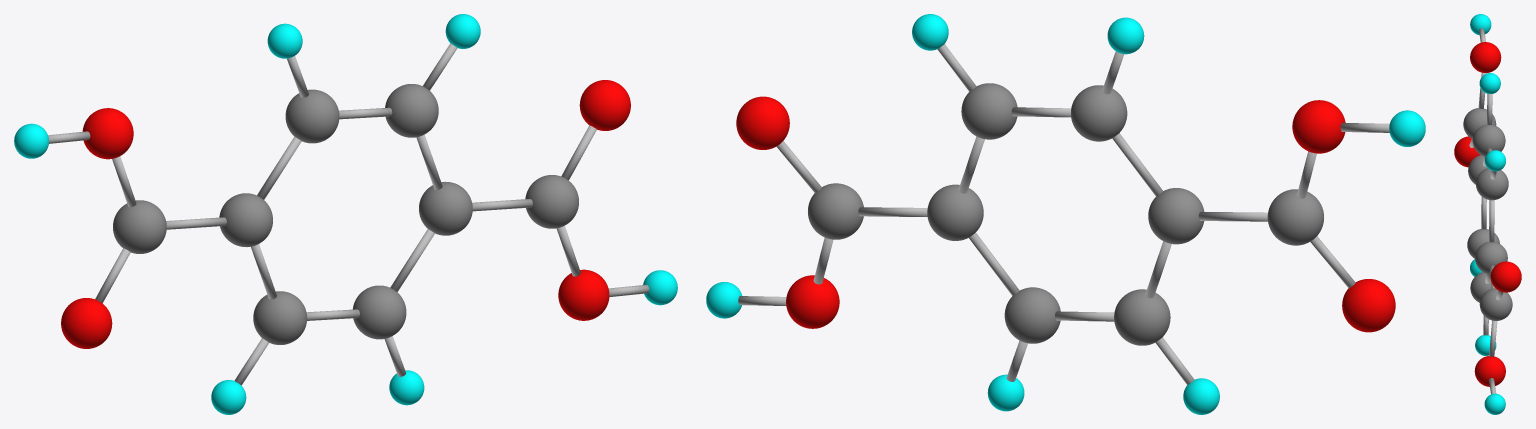
Rendered from terephthalic acid.glb.
3 views of the same model, side by side, from view 1: azimuth 30°, elevation 25°; view 2: azimuth 150°, elevation 25°; view 3: azimuth 270°, elevation 25° (orthographic). The views are drawn at different scales.
Visible parts, largest first — view 1: CMAtom_11; view 2: CMAtom_11; view 3: CMAtom_11.
Part boxes in pixels (box(x1,y1,x2,y2)): CMAtom_11: box(14, 14, 677, 414); CMAtom_11: box(706, 14, 1425, 414); CMAtom_11: box(1454, 14, 1521, 414).
Bounding box in the file's own units: 0.8845 × 0.5094 × 0.1268.
